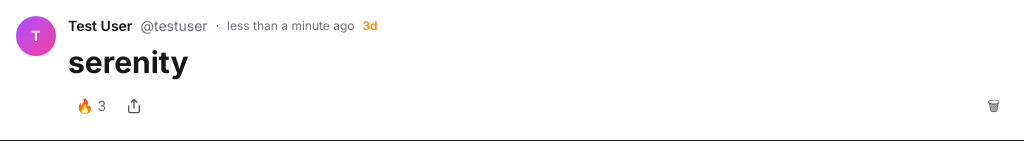
WordPost › shows delete confirmation when delete button clicked
Click the button titled "Delete".
click(994, 106)  # box [979,92,1008,120]
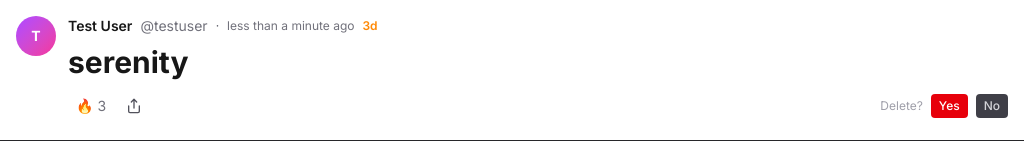
Expected: the text "Delete?" is shown, [880,98,923,114]
Expected: the button "Yes" is shown, [931,94,968,118]
Expected: the button "No" is shown, [976,94,1008,118]
